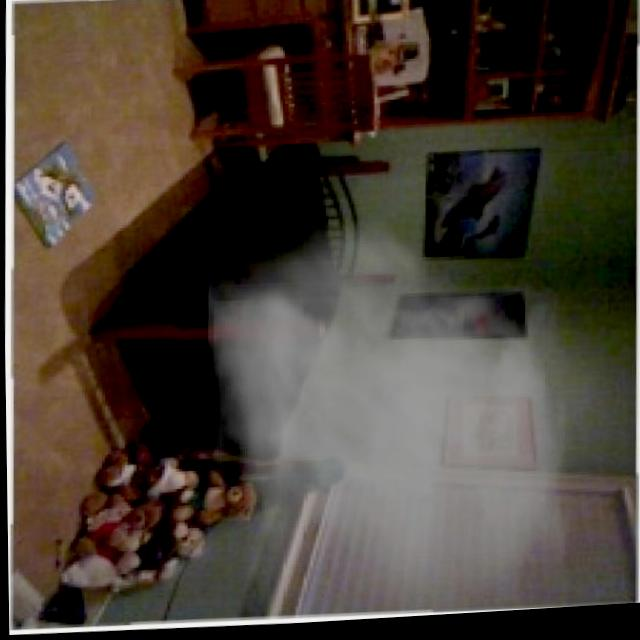no_helmet: (205, 201, 570, 620)
